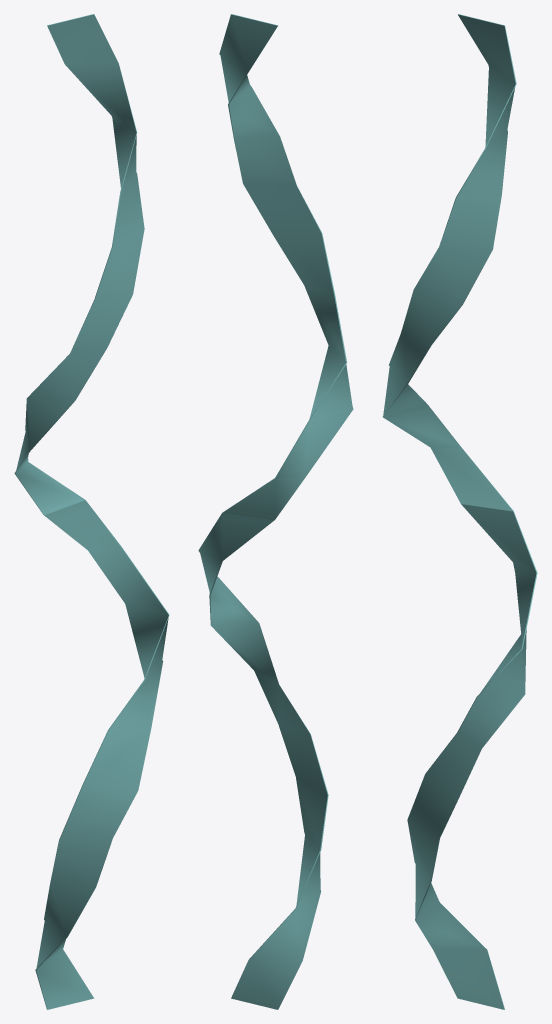
The model's file is ribbon_x2_deco.fbx.
3 renders of one model, left to right at view 1: azimuth 30°, elevation 25°; view 2: azimuth 150°, elevation 25°; view 3: azimuth 330°, elevation 25°, orthographic.
Visible parts, largest first — view 1: ribbon_x2_deco; view 2: ribbon_x2_deco; view 3: ribbon_x2_deco.
Boxes of the visible parts, <box> form: ribbon_x2_deco: <box>14,14,169,1009</box>; ribbon_x2_deco: <box>198,14,353,1009</box>; ribbon_x2_deco: <box>382,14,537,1009</box>.
Size of the model in its own units: 29.87 by 200 by 21.05.
